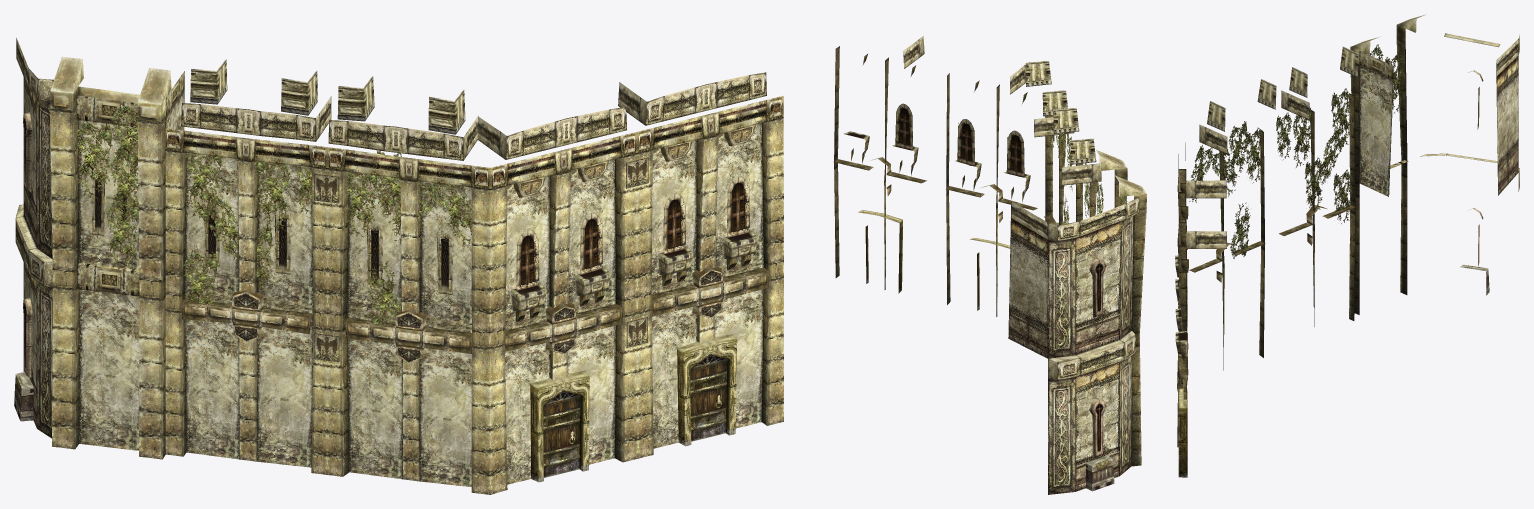
Rendered from OZ_09_wv_bldg01DB.glb.
3 views of the same model, side by side, from view 1: azimuth 30°, elevation 25°; view 2: azimuth 150°, elevation 25°; view 3: azimuth 270°, elevation 25° (orthographic). The views are drawn at different scales.
Parts seen in each view (by area): view 1: OM_09_wv_bldg01DB; view 2: OM_09_wv_bldg01DB; view 3: OM_09_wv_bldg01DB.
Part boxes in pixels (x1,y1,x2,y2): OM_09_wv_bldg01DB: (14, 38, 783, 494); OM_09_wv_bldg01DB: (834, 36, 1146, 494); OM_09_wv_bldg01DB: (1175, 14, 1519, 477).
Bounding box in the file's own units: 19.03 × 12.01 × 13.22.
Materials: 8 (8 with a texture image).
